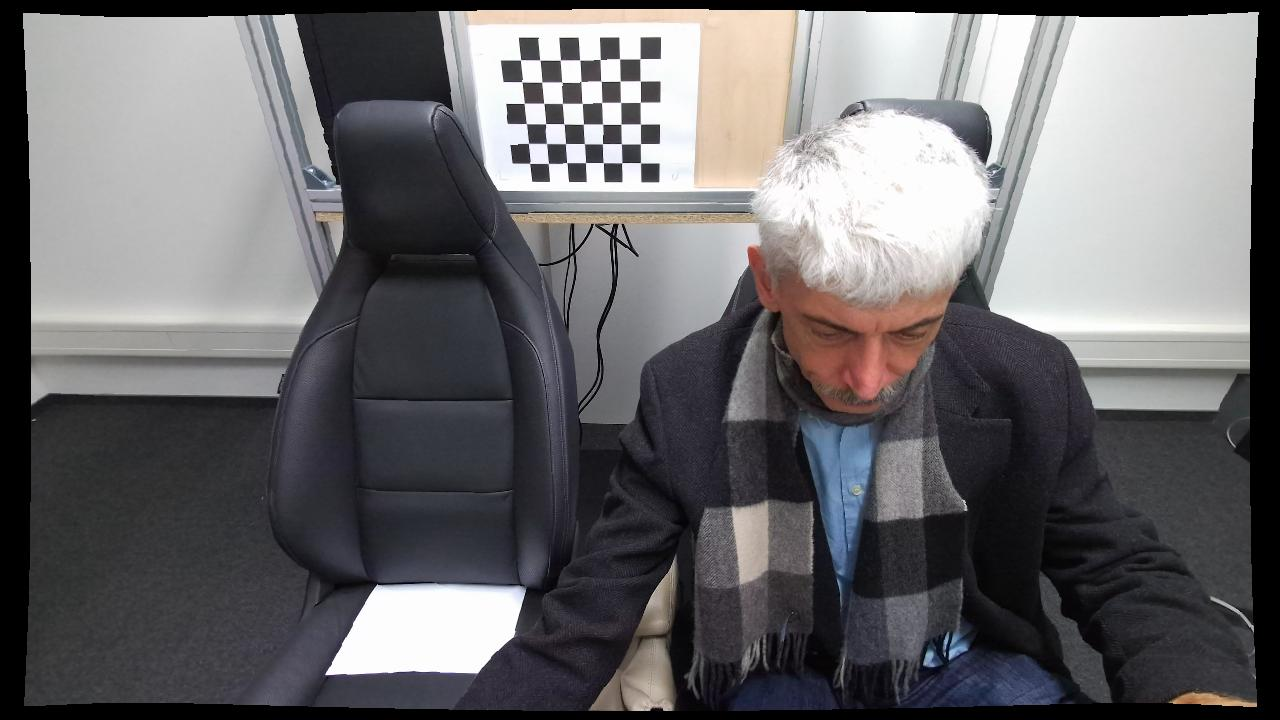Distracted: (452, 109, 1129, 713)
